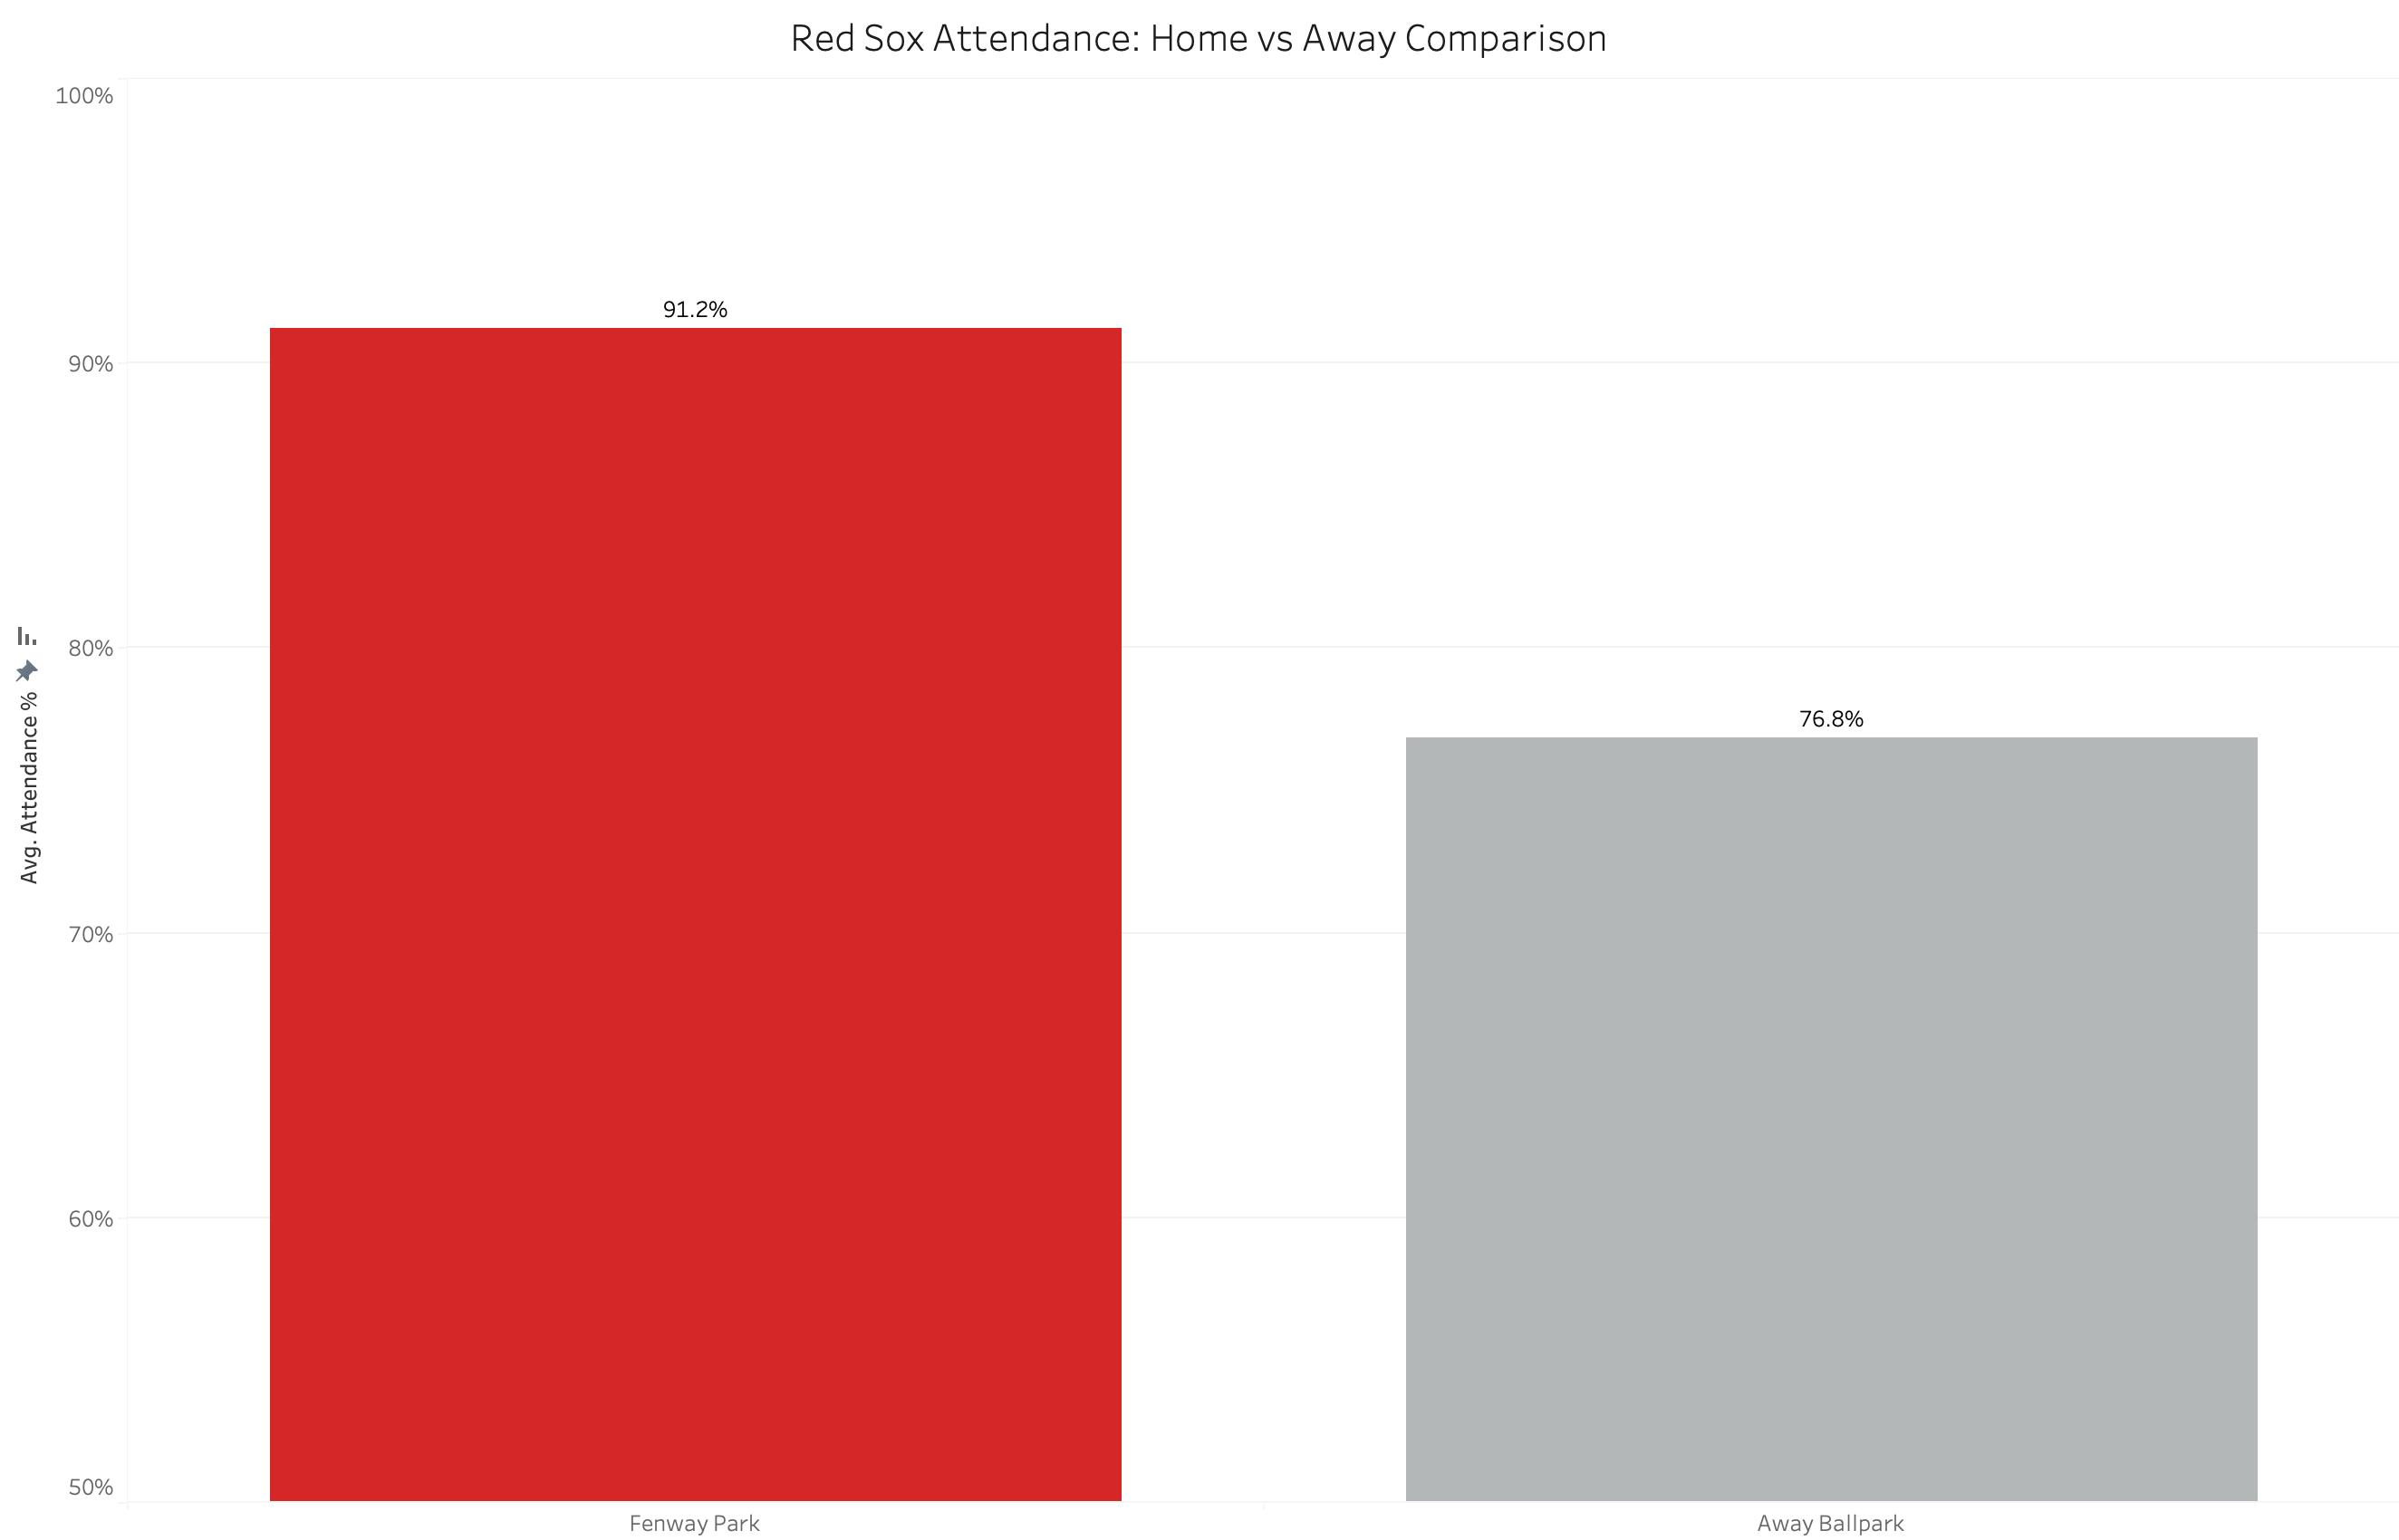

This screenshot's page, from the dashboard's own definition file:
{"tool":"tableau","page":{"name":"Dashboard 2","canvas":[1000,800],"ordinal":1},"visuals":[{"type":"worksheet","title":"Home vs Away","mark":"Automatic","rows":["Atnd %"],"cols":["H/A"],"box":[8,8,984,784]}]}

Visuals, with their boxes on the page's 1000x800 design canvas (x1, y1, x2, y2). These are canvas units, not pixel positions in the 2399x1540 screenshot, which may show the page scaled, cropped or inside an application window:
"Home vs Away" worksheet: pyautogui.locateOnScreen(8, 8, 992, 792)
